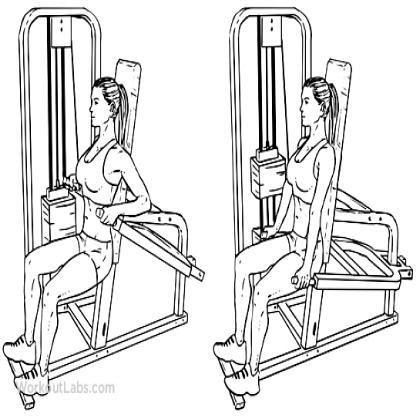seated dip machine: (4, 8, 206, 368)
